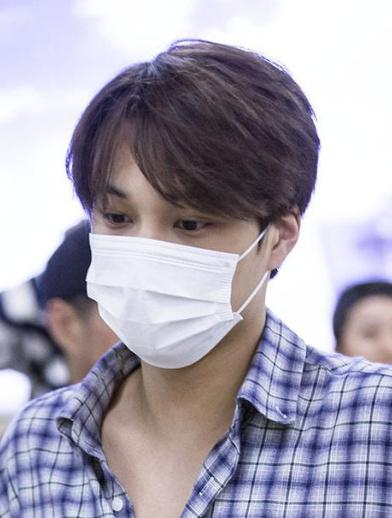OK: (90, 182, 250, 372)
